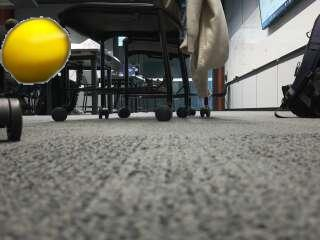lemon: (3, 19, 69, 84)
